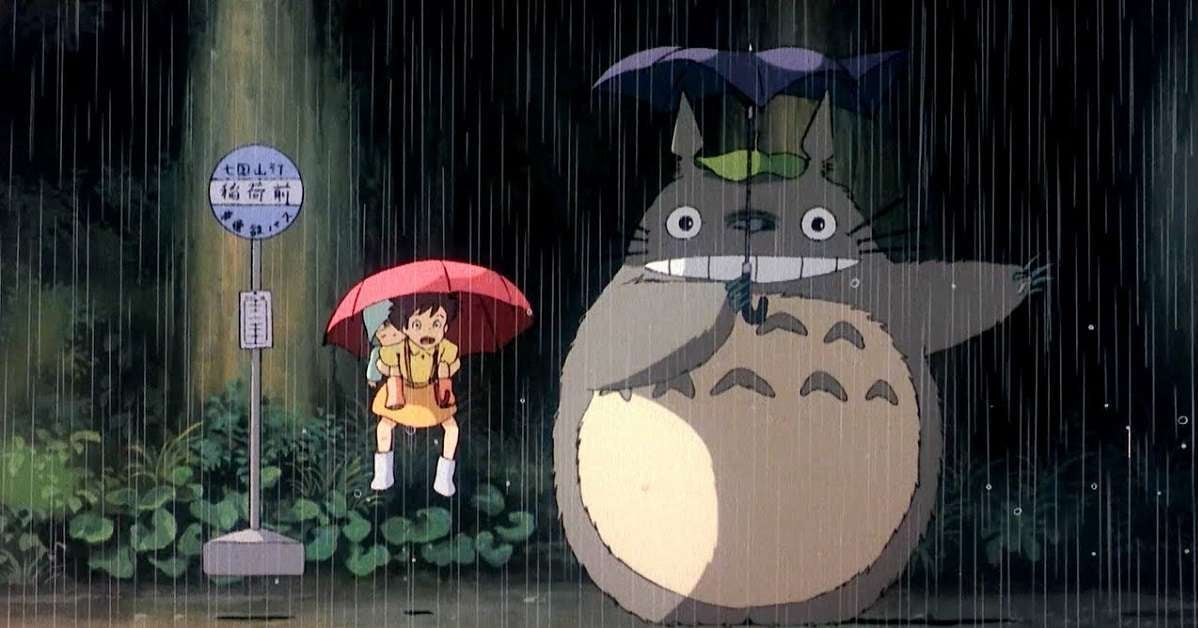Totoro: (544, 89, 1057, 628)
